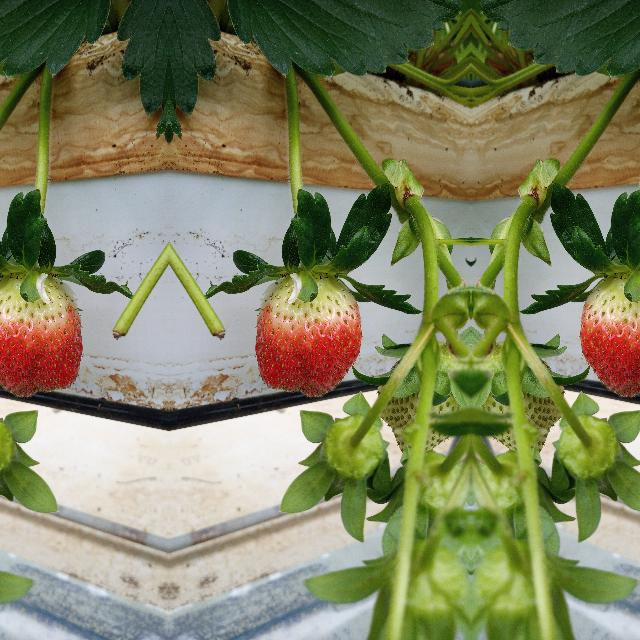Health_75: (254, 271, 362, 397), (0, 271, 82, 397), (578, 271, 640, 397)
